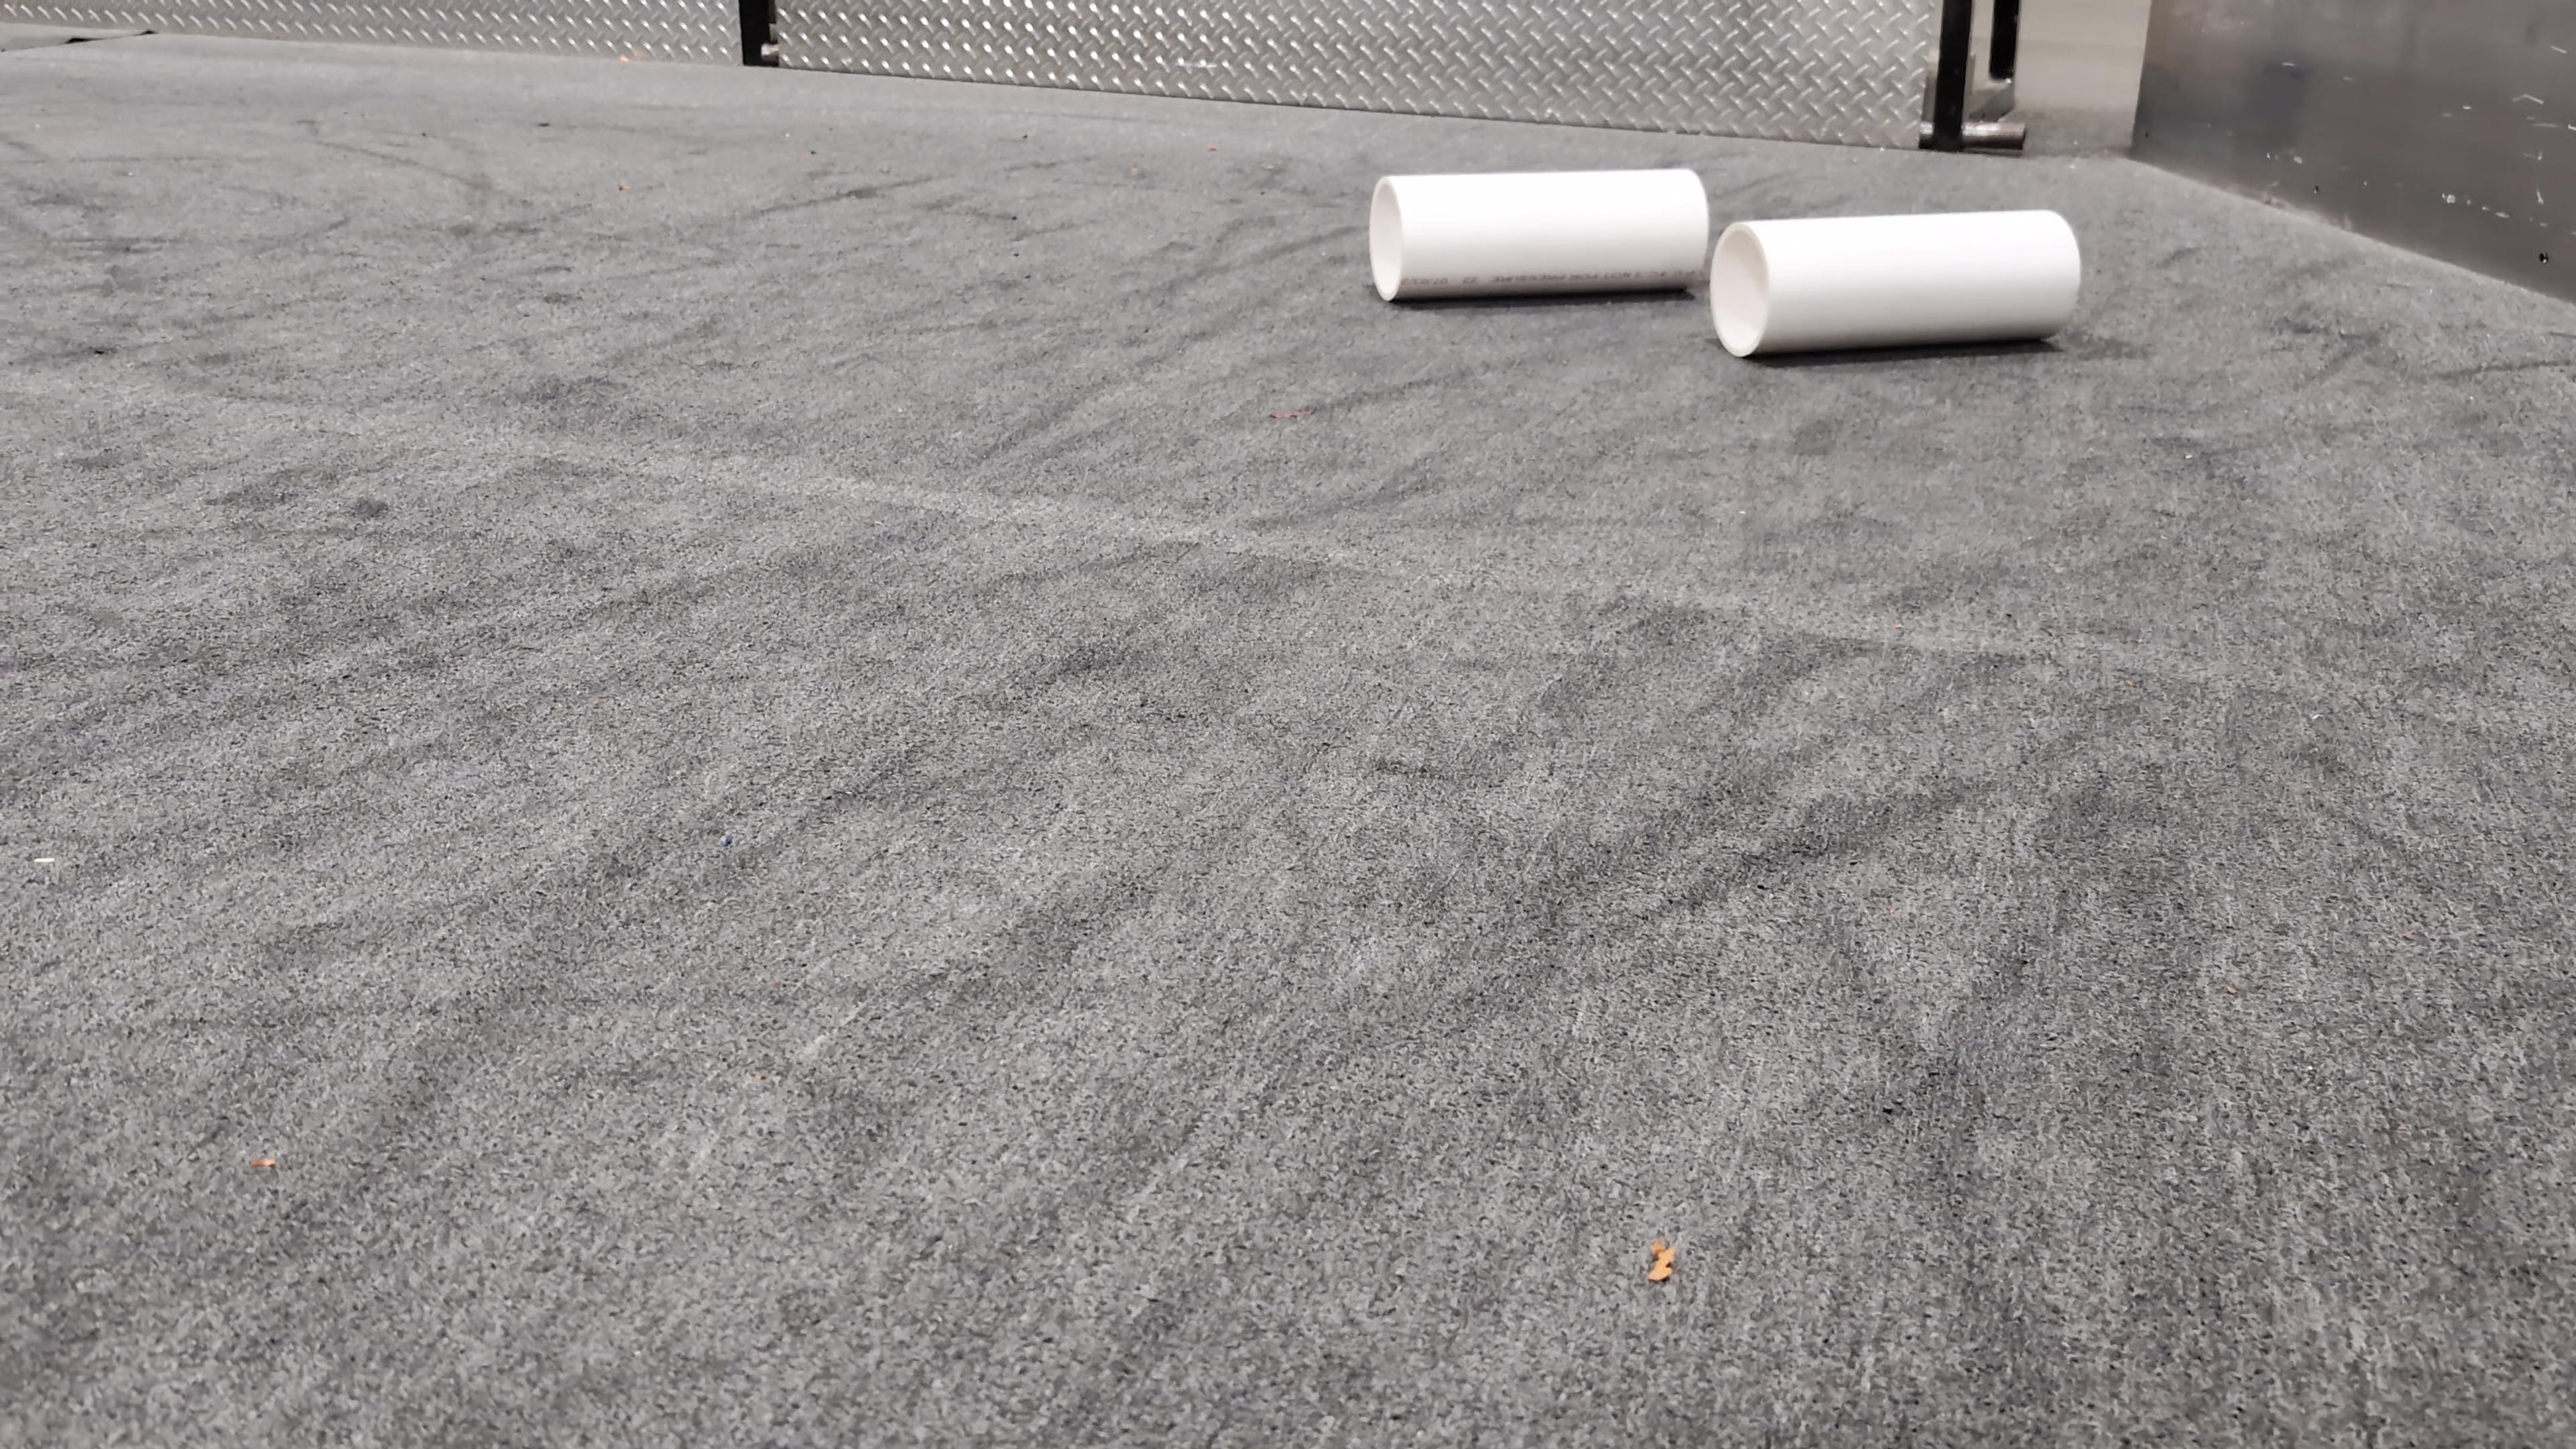coral: (1706, 203, 2084, 357), (1366, 161, 1713, 299)
